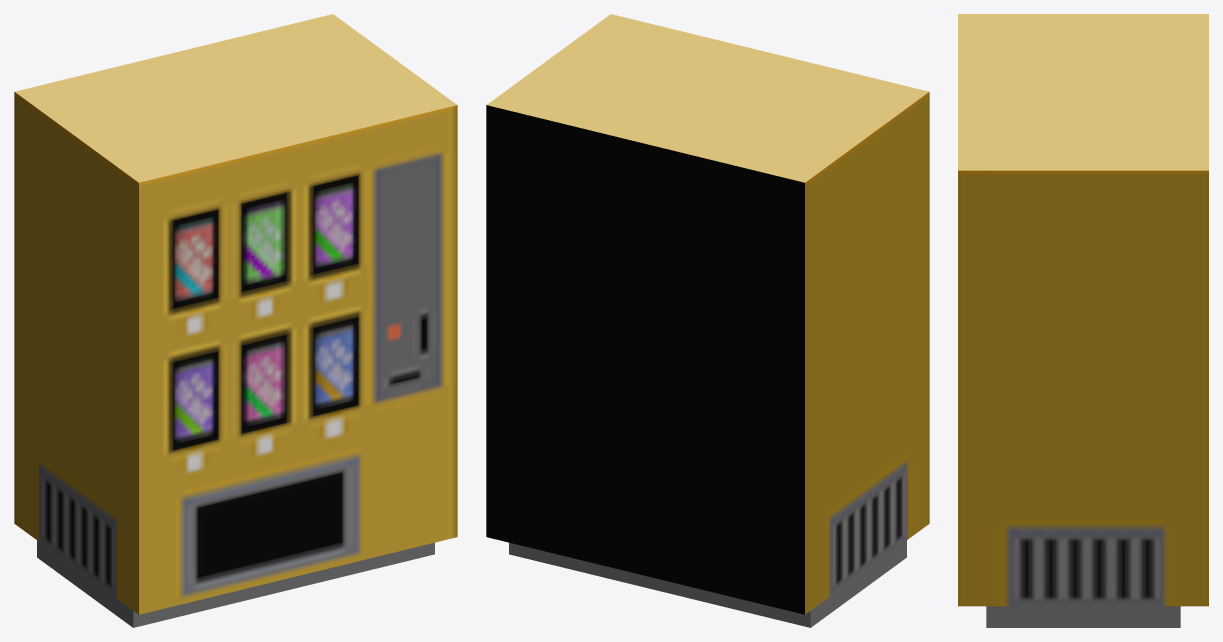
File: SM_VendingMachine_Small_02.fbx
The picture shows the model from 3 angles, left to right: view 1: azimuth 30°, elevation 25°; view 2: azimuth 150°, elevation 25°; view 3: azimuth 270°, elevation 25°; orthographic projection.
Parts seen in each view (by area): view 1: SM_VendingMachine_Small_02; view 2: SM_VendingMachine_Small_02; view 3: SM_VendingMachine_Small_02.
Part boxes in pixels (x1,y1,x2,y2): SM_VendingMachine_Small_02: [14, 14, 457, 627]; SM_VendingMachine_Small_02: [486, 14, 929, 627]; SM_VendingMachine_Small_02: [958, 14, 1208, 627].
Bounding box in the file's own units: 1.52 × 2.09 × 1.03.
